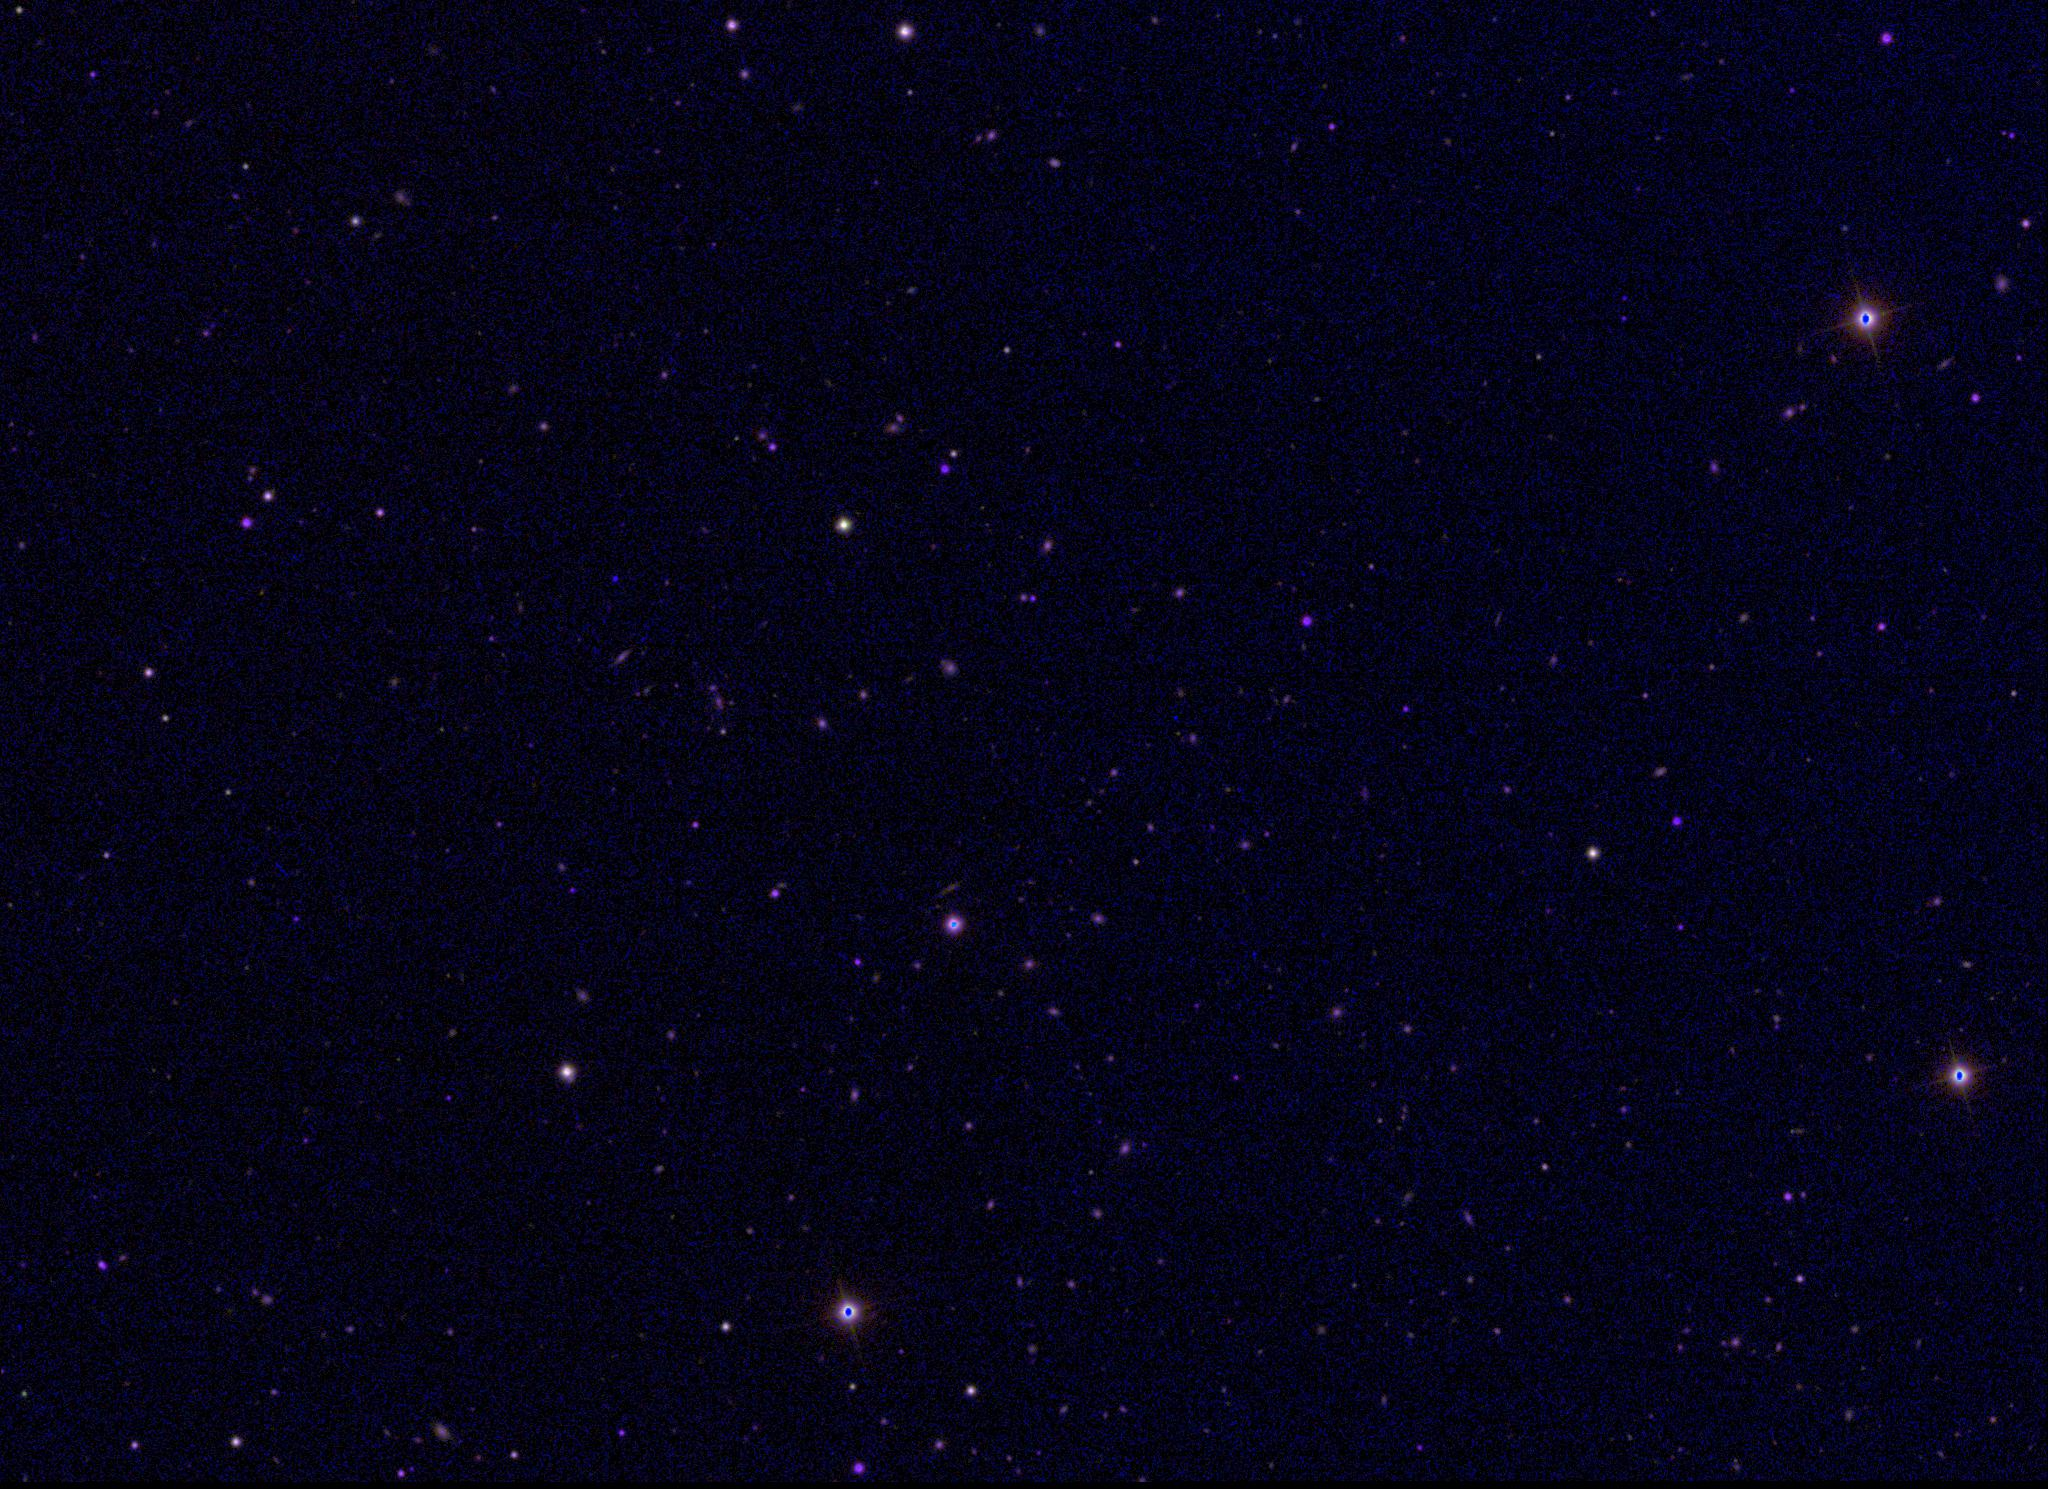L: (607, 570, 622, 582)
